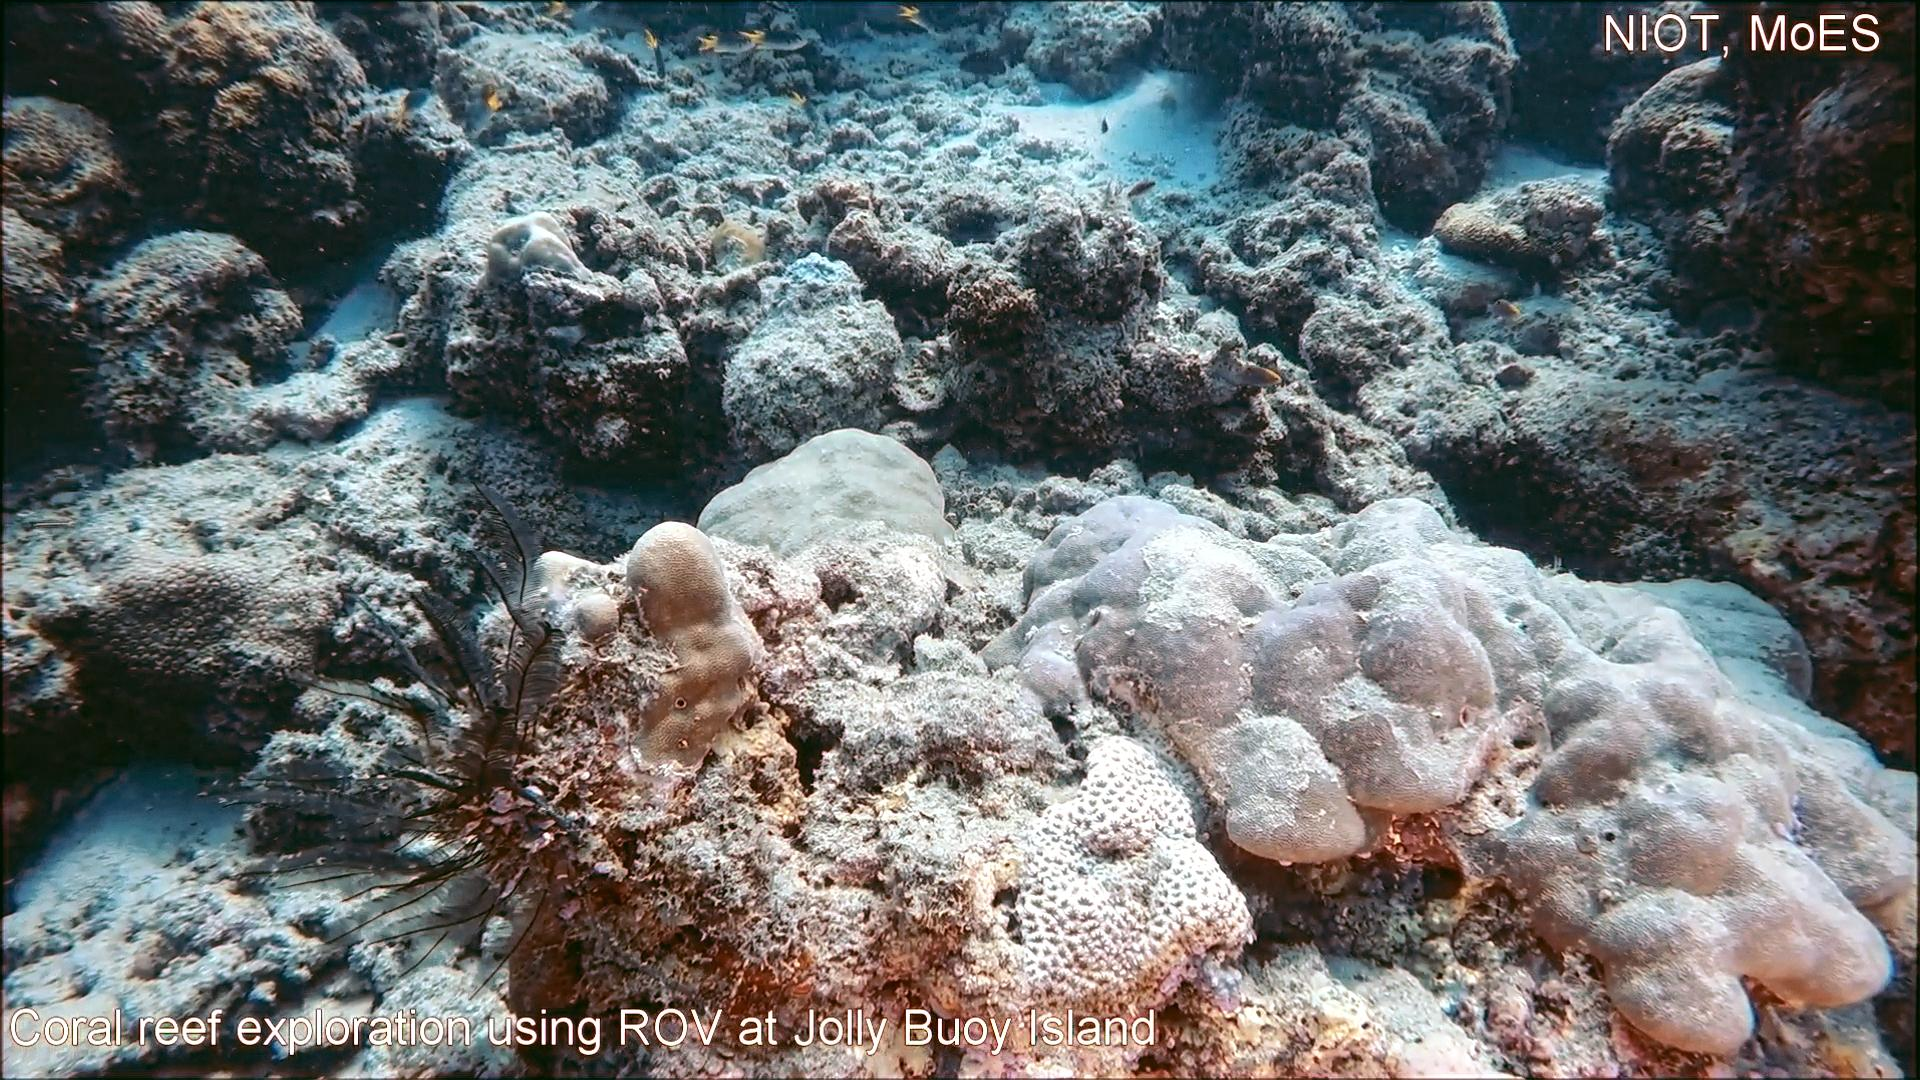Feather star-Crinoid star: (186, 466, 626, 1080)
Goniastrea-Goniastrea pectinata: (1004, 724, 1266, 1025)
Porites-Porites pukoensis: (1354, 490, 1920, 1066)
Turbinaria-Turbinaria stellulata: (70, 556, 346, 701)
